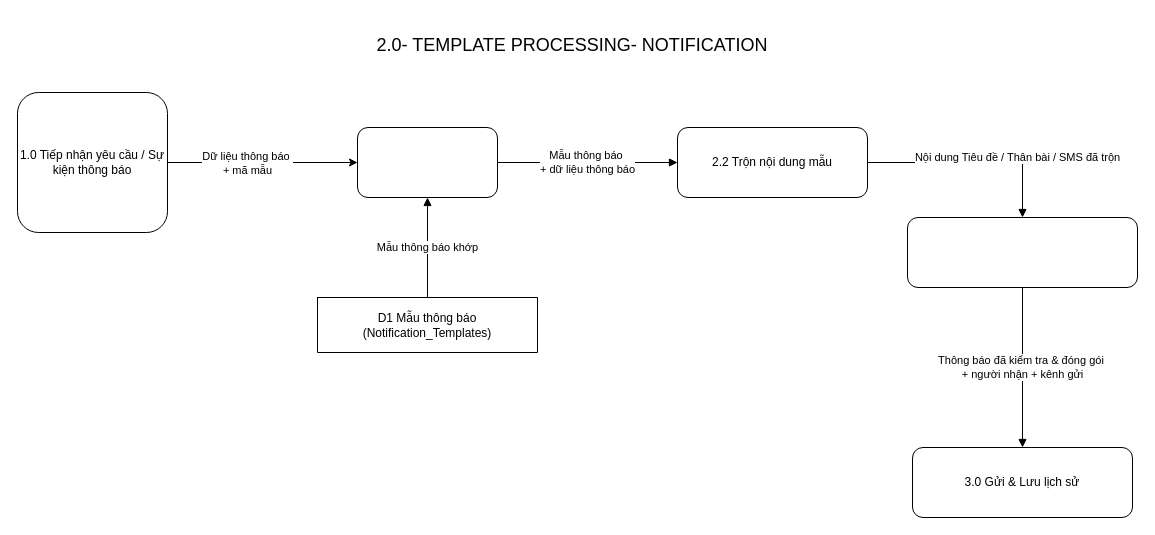
Some shapes in this 1155 by 535 pixel diagram are drawn without their labels. The shapes that lost their labels are listed below. From the top down, each one's centre as x and y in pixels, then its label:
At [427,162]: "2.1 Truy vấn mẫu thông báo".
At [1022,252]: "2.3 Kiểm tra & Đóng gói thông báo".
